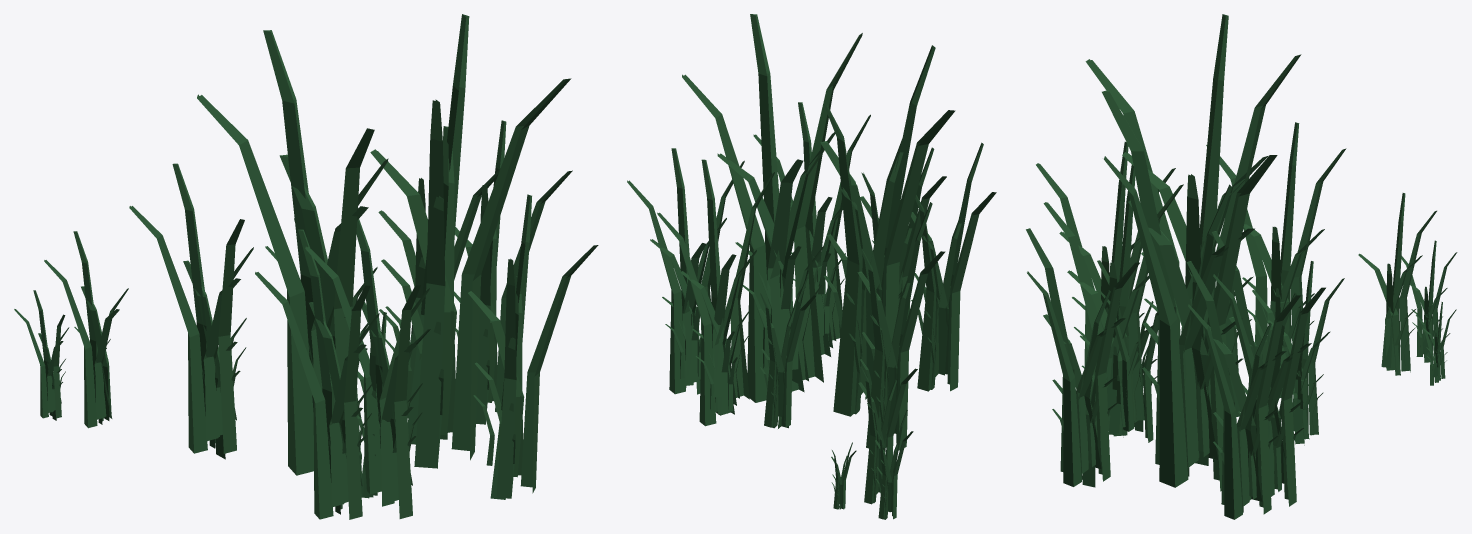
Rendered from greenGrass.glb.
3 views of the same model, side by side, from view 1: azimuth 30°, elevation 25°; view 2: azimuth 150°, elevation 25°; view 3: azimuth 270°, elevation 25° (orthographic). The views are drawn at different scales.
Parts seen in each view (by area): view 1: grass; view 2: grass; view 3: grass.
Part boxes in pixels (x1,y1,x2,y2): grass: [14, 14, 598, 519]; grass: [627, 14, 996, 519]; grass: [1026, 14, 1457, 519].
Size of the model in its own units: 11.45 by 10.81 by 11.08.
